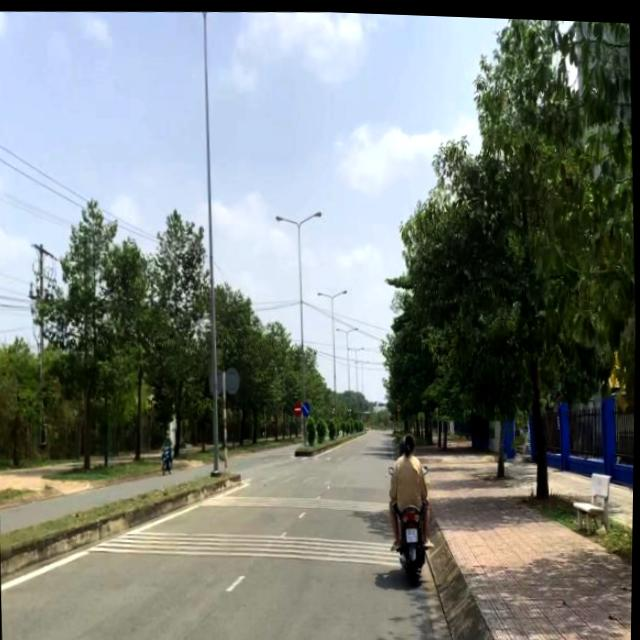Cam di nguoc chieu: (294, 399, 304, 414)
Vong chuong ngai vat sang phai: (302, 399, 312, 414)
